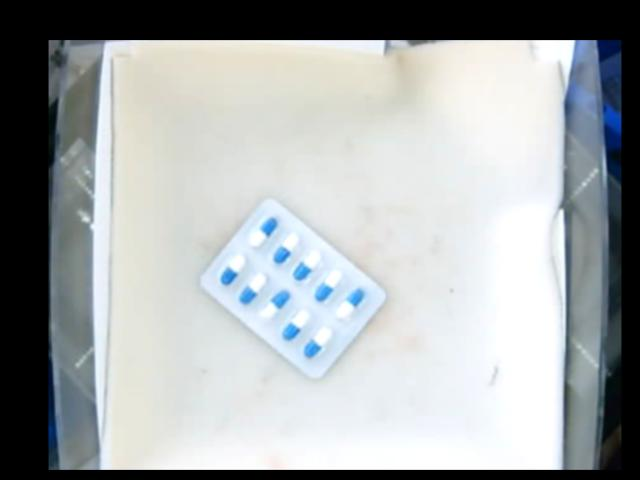Medicine: (196, 199, 387, 382)
